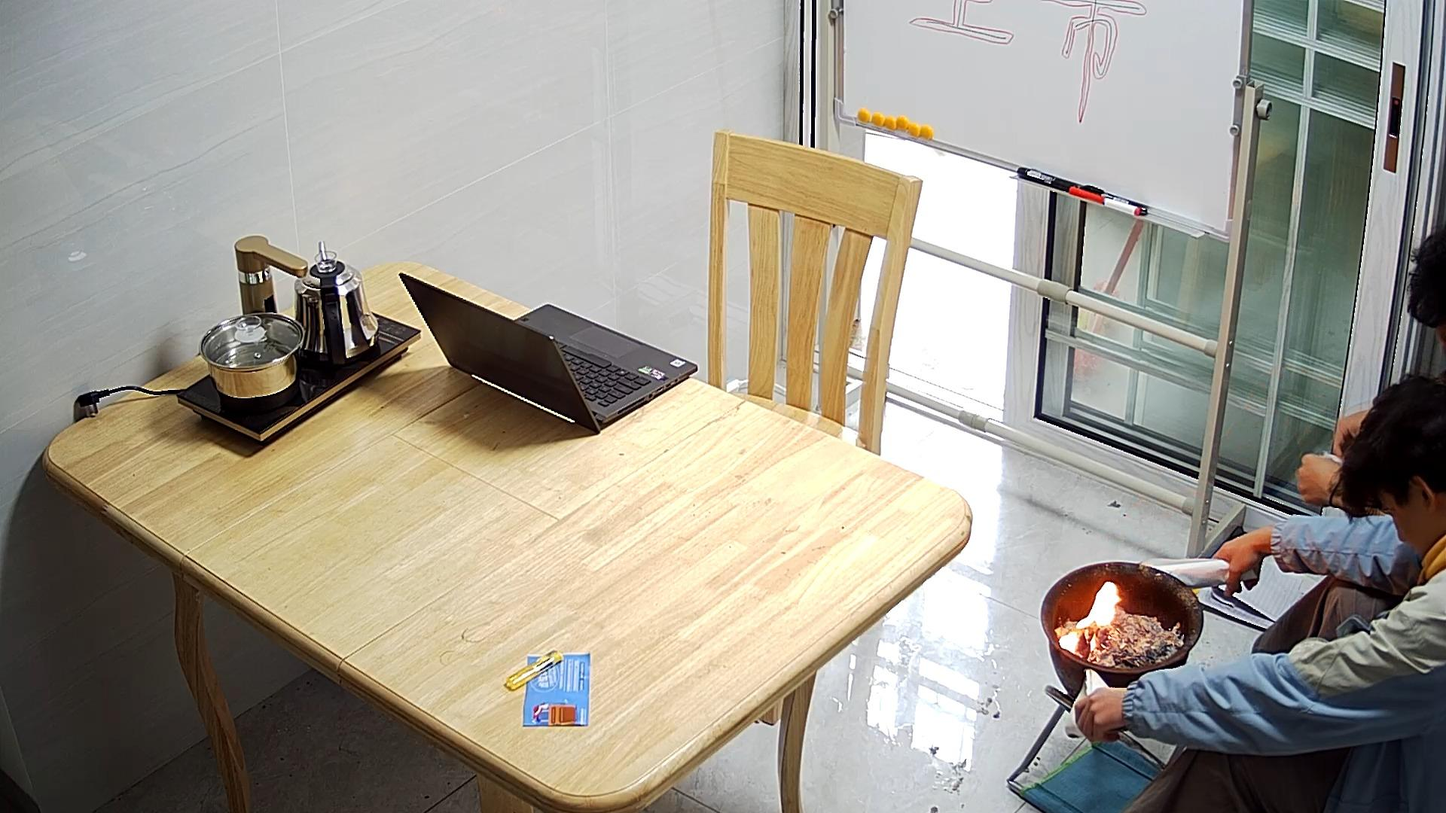fire: (1074, 583, 1120, 629), (1060, 635, 1078, 652)
